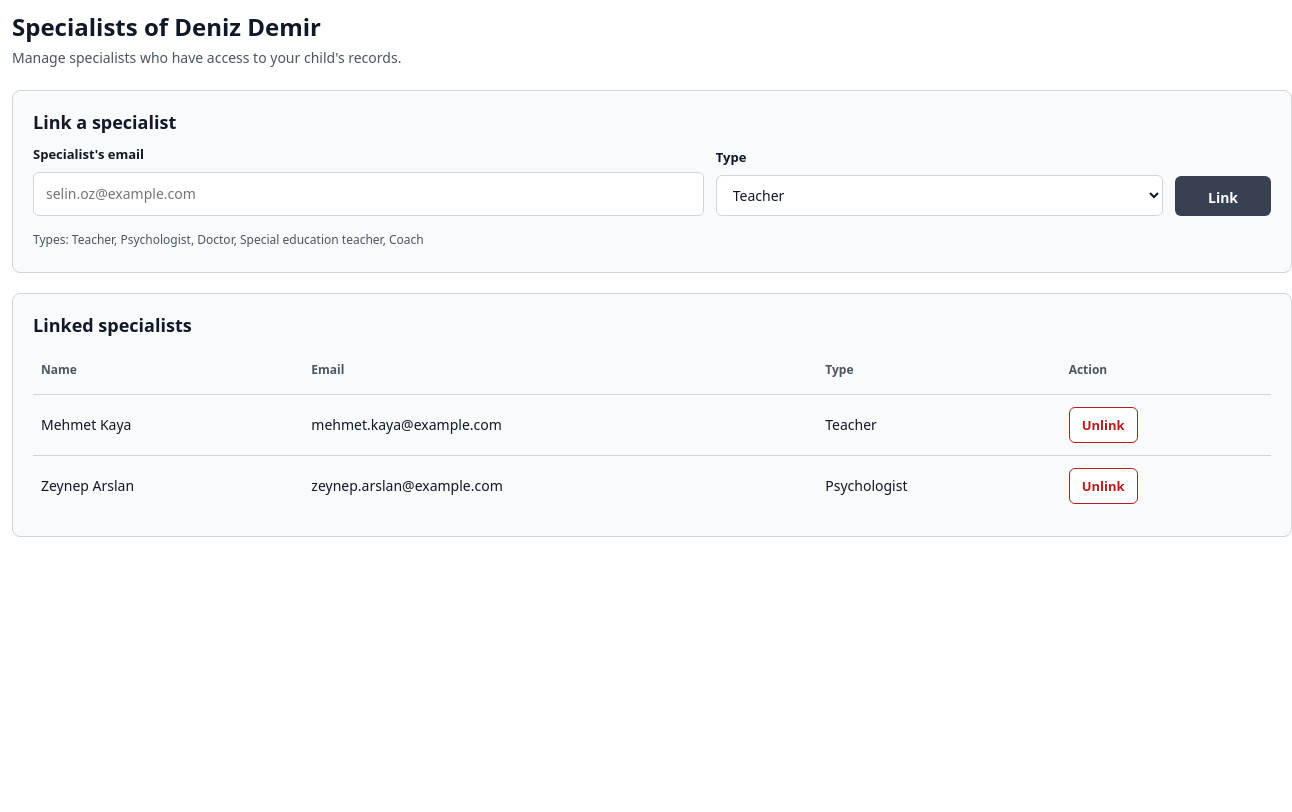
Test: ParentSpecialistsPage (FR-M2-01..04) › shows the API error message when the email is not a registered specialist (FR-M2-02)
The width and height of the screenshot is (1292, 812).
Check: the text "Mehmet Kaya" is shown, box [33, 394, 303, 455]
Type "unknown@example.com" into the field labelled "Specialist's email".
click(368, 194); type("unknown@example.com")  # box [33, 172, 704, 216]
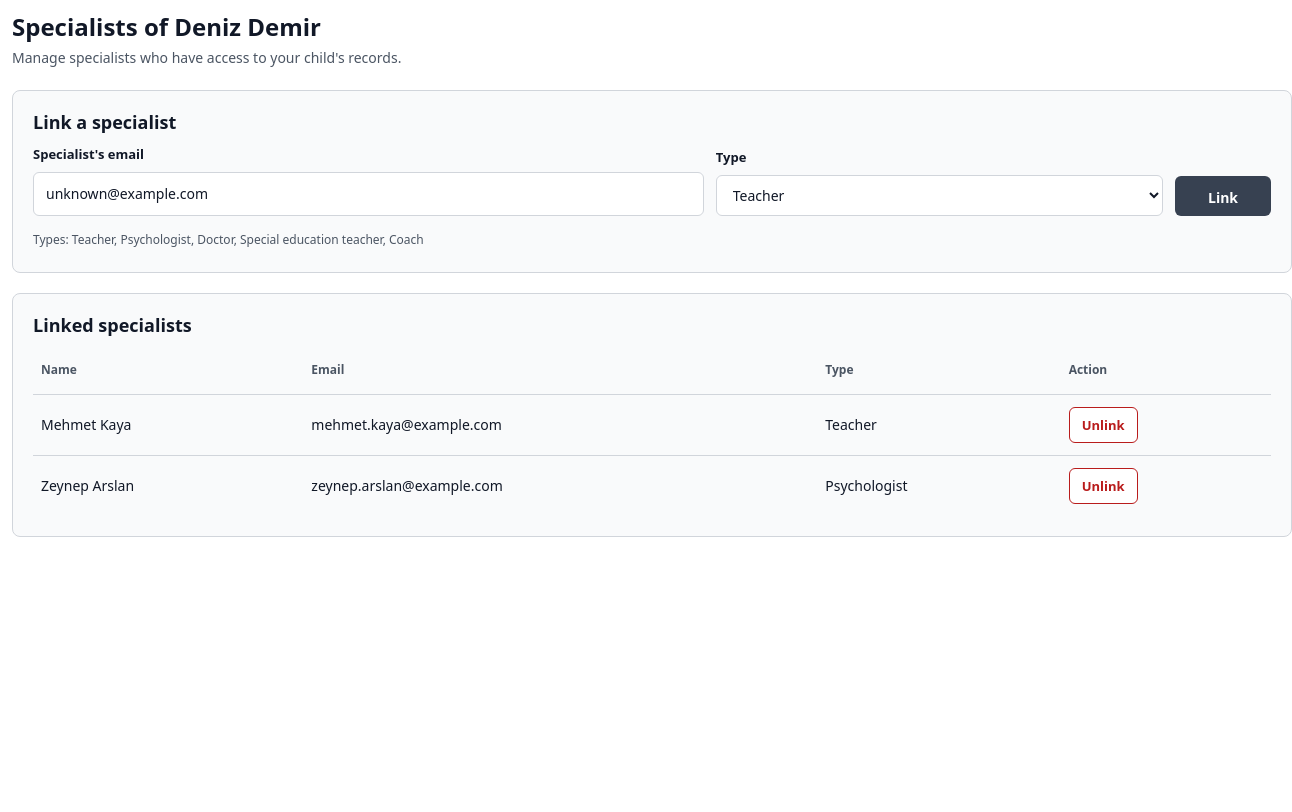
Click the button "Link".
click(1223, 196)  # box [1175, 176, 1271, 216]
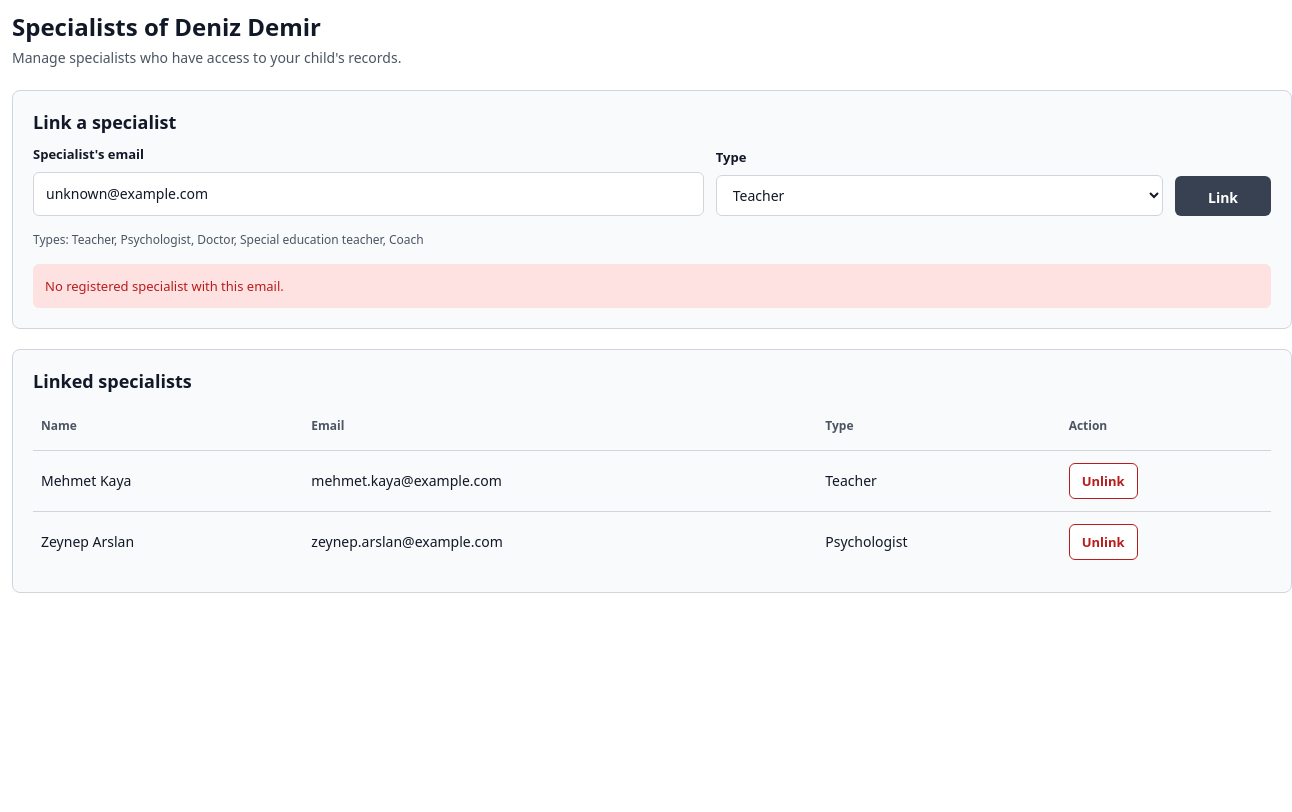
Check: the message reads "No registered specialist with this email.", box [45, 277, 284, 295]
